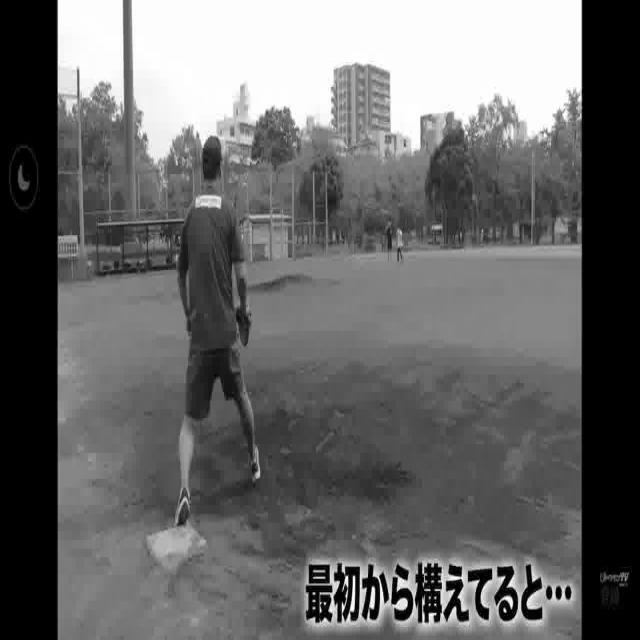base: (147, 523, 209, 571)
baseball_glove: (236, 302, 256, 346)
shoe: (248, 444, 263, 487), (177, 488, 191, 529)
